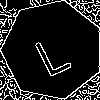L: (27, 25, 74, 78)
